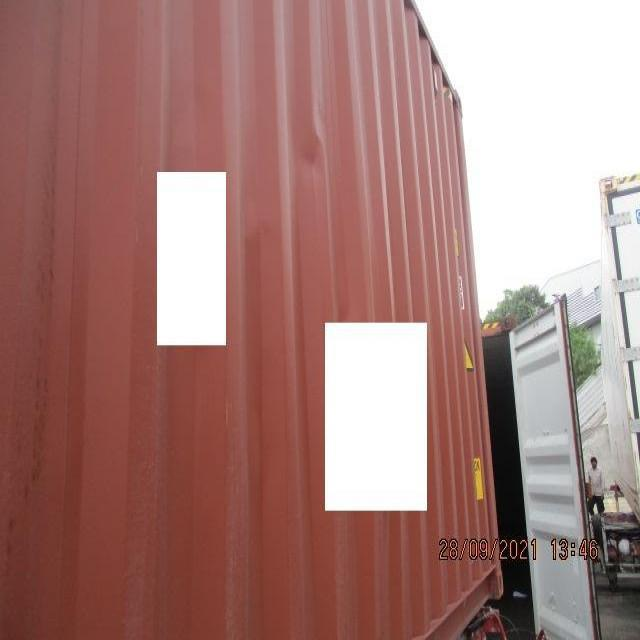Minor-Dent: (273, 88, 366, 225)
